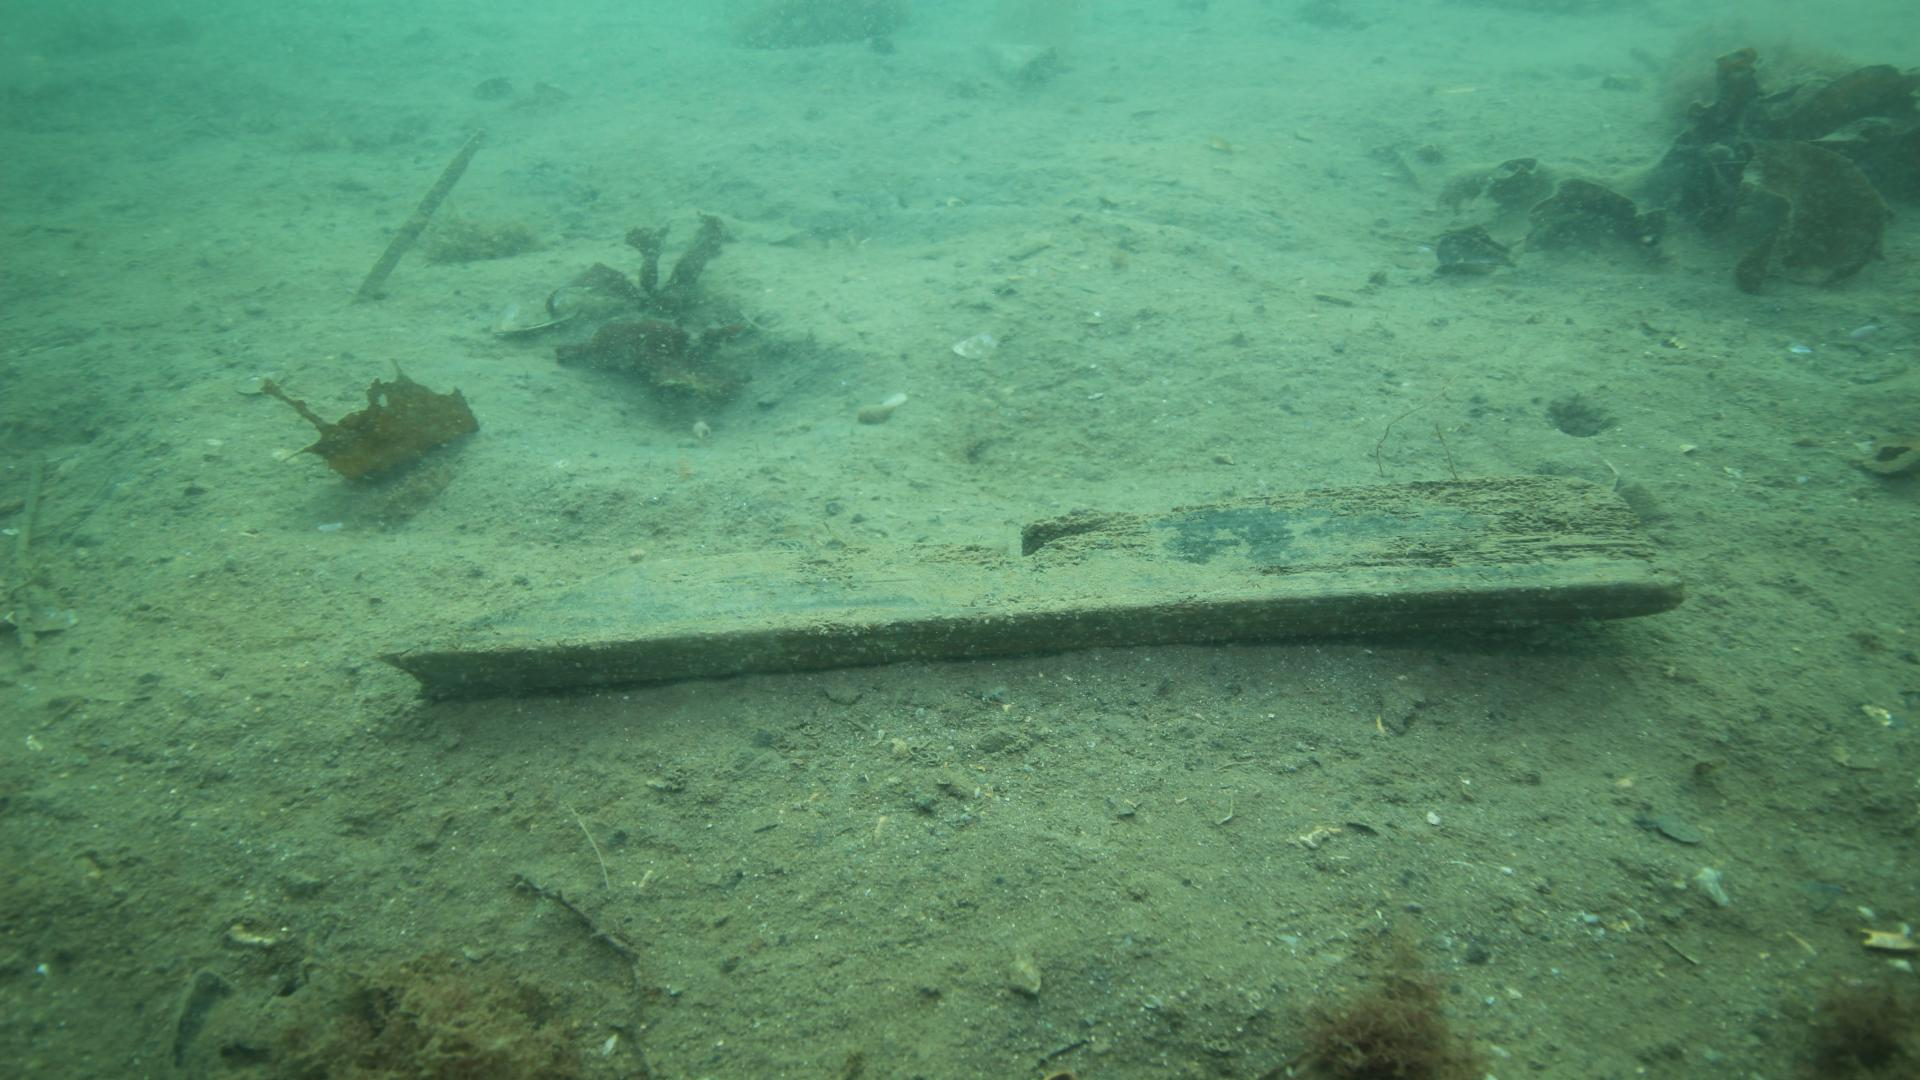wood: (372, 469, 1683, 690)
